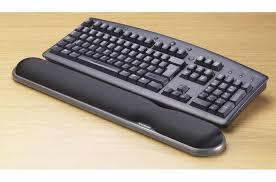keyboard: (41, 16, 268, 128)
